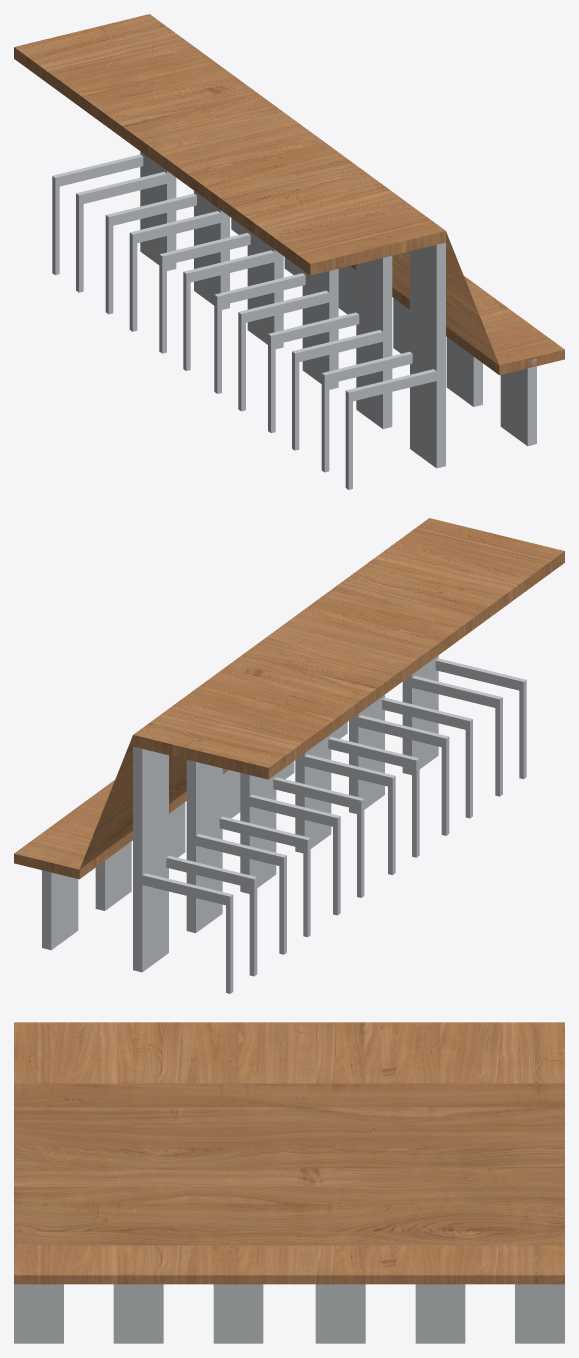
File: Fahrradstaender.fbx
The picture shows the model from 3 angles, top to bottom: view 1: azimuth 30°, elevation 25°; view 2: azimuth 150°, elevation 25°; view 3: azimuth 270°, elevation 25°; orthographic projection. The views are drawn at different scales.
Visible parts, largest first — view 1: Extrusionskörper_2, Extrusionskörper_8, Extrusionskörper_7, Extrusionskörper, 3D_Polygon, Extrusionskörper_6, Extrusionskörper_14, 3D_Polygon_2, Extrusionskörper_5, Extrusionskörper_3, Extrusionskörper_4, Extrusionskörper_13 (+26 smaller); view 2: Extrusionskörper_2, Extrusionskörper_3, Extrusionskörper_4, Extrusionskörper, 3D_Polygon, Extrusionskörper_5, Extrusionskörper_9, 3D_Polygon_2, Extrusionskörper_6, Extrusionskörper_8, Extrusionskörper_7, Extrusionskörper_10 (+26 smaller); view 3: 3D_Polygon, Extrusionskörper_2, Extrusionskörper, Extrusionskörper_10, Extrusionskörper_11, Extrusionskörper_12, Extrusionskörper_13, Extrusionskörper_9, Extrusionskörper_14, 3D_Polygon_2.
Part boxes in pixels (left/top/right/bottom): Extrusionskörper_2: left=14, top=14, right=445, bottom=275; Extrusionskörper_8: left=410, top=242, right=445, bottom=468; Extrusionskörper_7: left=356, top=256, right=392, bottom=428; Extrusionskörper: left=350, top=264, right=564, bottom=375; 3D_Polygon: left=392, top=231, right=498, bottom=364; Extrusionskörper_6: left=302, top=269, right=338, bottom=389; Extrusionskörper_14: left=500, top=358, right=536, bottom=446; 3D_Polygon_2: left=464, top=276, right=563, bottom=364; Extrusionskörper_5: left=247, top=230, right=283, bottom=349; Extrusionskörper_3: left=140, top=151, right=176, bottom=270; Extrusionskörper_4: left=194, top=191, right=229, bottom=309; Extrusionskörper_13: left=446, top=337, right=482, bottom=406; Extrusionskörper_2: left=133, top=518, right=564, bottom=779; Extrusionskörper_3: left=133, top=746, right=168, bottom=972; Extrusionskörper_4: left=186, top=760, right=222, bottom=933; Extrusionskörper: left=14, top=768, right=228, bottom=879; 3D_Polygon: left=80, top=735, right=186, bottom=868; Extrusionskörper_5: left=240, top=773, right=276, bottom=893; Extrusionskörper_9: left=42, top=870, right=78, bottom=950; 3D_Polygon_2: left=14, top=780, right=114, bottom=868; Extrusionskörper_6: left=295, top=734, right=331, bottom=853; Extrusionskörper_8: left=402, top=655, right=438, bottom=774; Extrusionskörper_7: left=349, top=695, right=384, bottom=813; Extrusionskörper_10: left=95, top=841, right=131, bottom=910; 3D_Polygon: left=14, top=1083, right=564, bottom=1245; Extrusionskörper_2: left=14, top=1022, right=564, bottom=1083; Extrusionskörper: left=14, top=1245, right=564, bottom=1284; Extrusionskörper_10: left=415, top=1284, right=465, bottom=1343; Extrusionskörper_11: left=315, top=1284, right=365, bottom=1343; Extrusionskörper_12: left=213, top=1284, right=263, bottom=1343; Extrusionskörper_13: left=113, top=1284, right=163, bottom=1343; Extrusionskörper_9: left=515, top=1284, right=564, bottom=1343; Extrusionskörper_14: left=14, top=1284, right=63, bottom=1343; 3D_Polygon_2: left=14, top=1245, right=564, bottom=1275.
Bounding box in the file's own units: 137 × 121 × 276.
2 materials, 1 textured.
